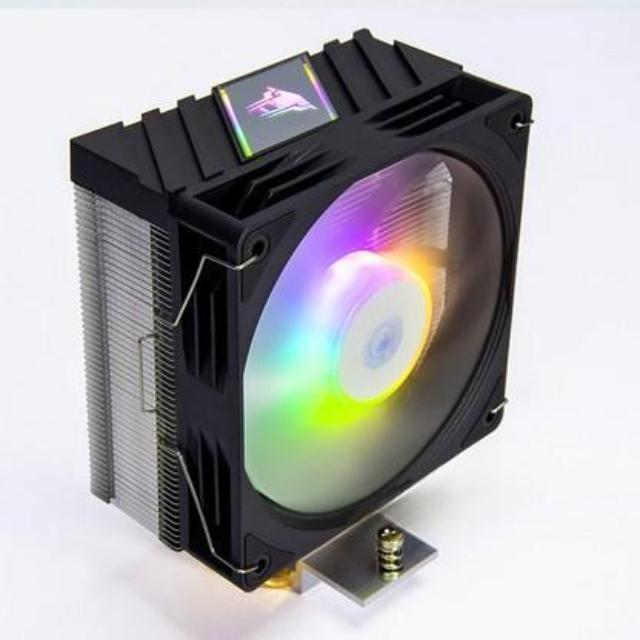CPU_Fan: (66, 21, 528, 614)
